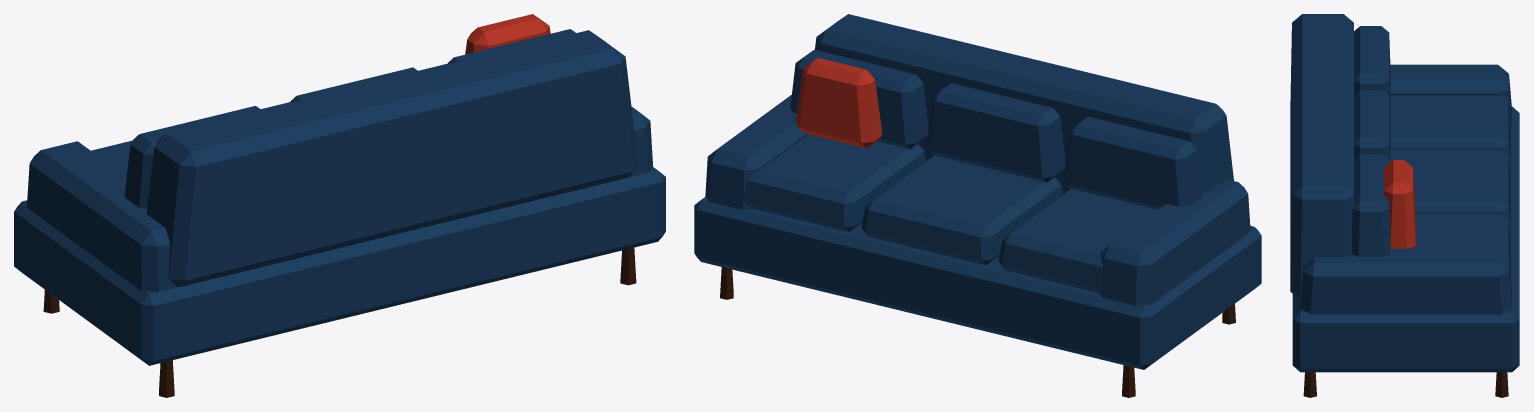
File: INTERIOR_03_Sofa.obj
3 renders of one model, left to right at view 1: azimuth 30°, elevation 25°; view 2: azimuth 150°, elevation 25°; view 3: azimuth 270°, elevation 25°, orthographic. The views are drawn at different scales.
Parts seen in each view (by area): view 1: INTERIOR_03_Sofa_Back, INTERIOR_03_Sofa_Base, INTERIOR_03_Sofa_Arms, INTERIOR_03_Sofa_Back_Cushions, INTERIOR_03_Sofa_Pillow, INTERIOR_03_Sofa_Feet, INTERIOR_03_Sofa_Seat_Cushions; view 2: INTERIOR_03_Sofa_Base, INTERIOR_03_Sofa_Seat_Cushions, INTERIOR_03_Sofa_Back_Cushions, INTERIOR_03_Sofa_Back, INTERIOR_03_Sofa_Arms, INTERIOR_03_Sofa_Pillow, INTERIOR_03_Sofa_Feet; view 3: INTERIOR_03_Sofa_Arms, INTERIOR_03_Sofa_Seat_Cushions, INTERIOR_03_Sofa_Back, INTERIOR_03_Sofa_Base, INTERIOR_03_Sofa_Back_Cushions, INTERIOR_03_Sofa_Pillow, INTERIOR_03_Sofa_Feet.
Boxes of the visible parts, x1,y1,x2,y2 form: INTERIOR_03_Sofa_Back: (146, 30, 638, 287); INTERIOR_03_Sofa_Base: (14, 166, 665, 365); INTERIOR_03_Sofa_Arms: (27, 106, 652, 292); INTERIOR_03_Sofa_Back_Cushions: (124, 29, 575, 208); INTERIOR_03_Sofa_Pillow: (465, 14, 550, 54); INTERIOR_03_Sofa_Feet: (43, 247, 636, 397); INTERIOR_03_Sofa_Seat_Cushions: (91, 63, 447, 176); INTERIOR_03_Sofa_Base: (694, 196, 1261, 369); INTERIOR_03_Sofa_Seat_Cushions: (744, 134, 1157, 292); INTERIOR_03_Sofa_Back_Cushions: (790, 49, 1202, 209); INTERIOR_03_Sofa_Back: (815, 14, 1233, 194); INTERIOR_03_Sofa_Arms: (705, 94, 1250, 305); INTERIOR_03_Sofa_Pillow: (796, 58, 882, 148); INTERIOR_03_Sofa_Feet: (720, 267, 1235, 397); INTERIOR_03_Sofa_Arms: (1300, 64, 1511, 314); INTERIOR_03_Sofa_Seat_Cushions: (1390, 95, 1510, 277); INTERIOR_03_Sofa_Back: (1290, 14, 1354, 300); INTERIOR_03_Sofa_Base: (1292, 106, 1519, 372); INTERIOR_03_Sofa_Back_Cushions: (1352, 26, 1390, 256); INTERIOR_03_Sofa_Pillow: (1384, 160, 1415, 248); INTERIOR_03_Sofa_Feet: (1303, 372, 1508, 397).
Size of the model in its own units: 2 by 0.88 by 0.9093.
